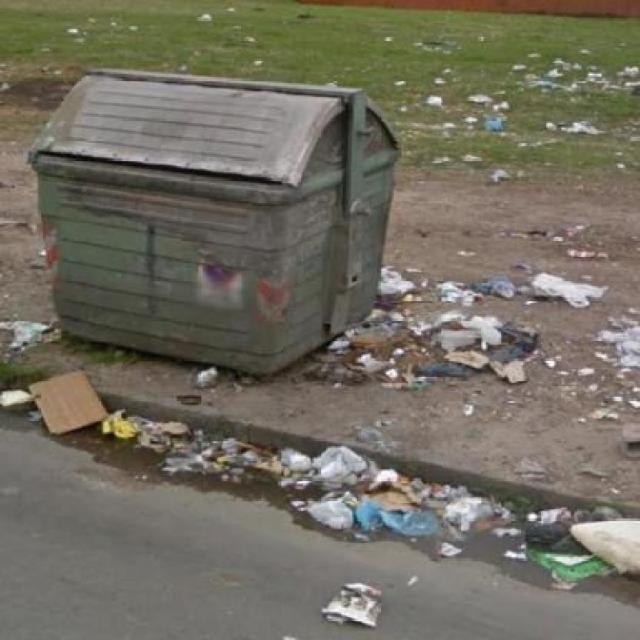garbage: (5, 366, 640, 607), (323, 260, 640, 394), (414, 56, 640, 143), (143, 357, 402, 402), (287, 567, 429, 640), (0, 317, 61, 358)
